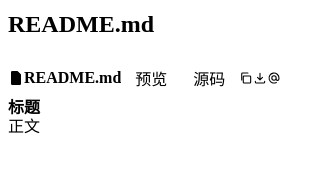
Test: file viewer › renders markdown with a source toggle
The image size is (320, 178).
Expected: the heading "标题" is shown, [8, 99, 40, 116]
Click the tab "源码" at (209, 78), box [181, 66, 237, 90]
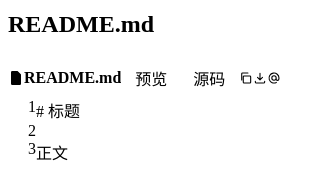
Expected: the text "# 标题" is shown, [36, 98, 80, 122]
